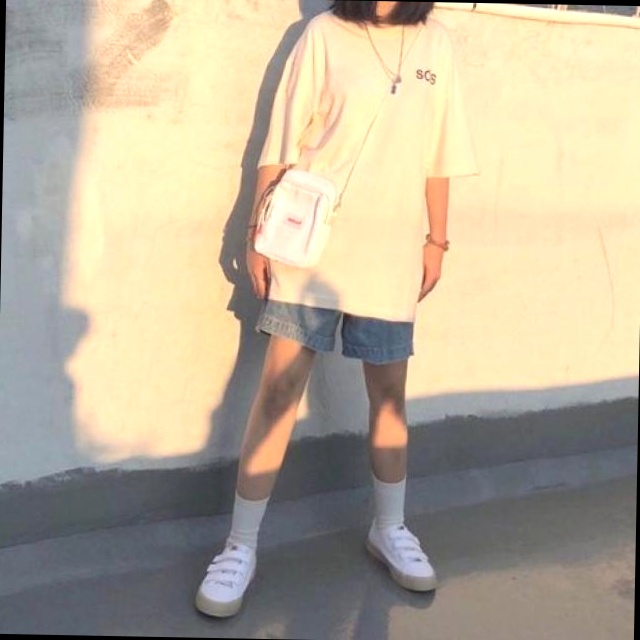Shorts: (232, 246, 417, 503)
